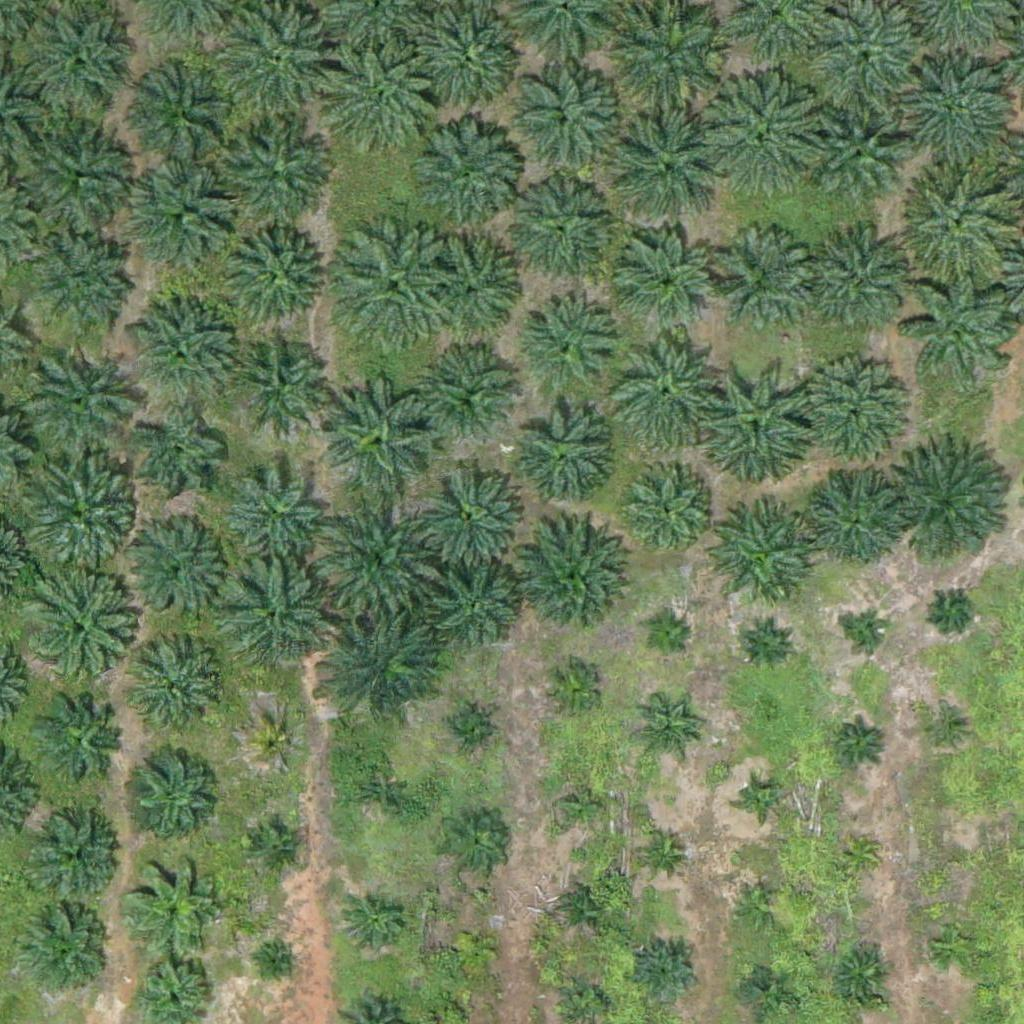Kelapa_Sawit: (17, 114, 142, 240), (321, 41, 446, 167), (400, 112, 525, 238), (502, 62, 627, 188), (607, 108, 732, 234), (803, 4, 928, 130), (890, 55, 1015, 181), (696, 362, 821, 488), (604, 328, 729, 454), (329, 223, 454, 349), (314, 493, 439, 619), (322, 604, 447, 730), (703, 75, 828, 200), (892, 443, 1017, 568), (15, 451, 140, 576), (15, 570, 140, 695), (513, 524, 626, 638), (22, 7, 135, 120), (904, 270, 1017, 383), (793, 356, 906, 469), (222, 562, 335, 675), (127, 297, 240, 410), (24, 228, 137, 341), (21, 346, 134, 459), (414, 454, 526, 568), (324, 374, 436, 488), (129, 57, 241, 170), (218, 123, 330, 236), (905, 165, 1017, 278), (702, 506, 814, 619), (803, 467, 903, 568), (809, 232, 909, 333), (708, 231, 808, 332), (618, 234, 718, 335), (617, 461, 717, 562), (506, 181, 606, 282), (518, 297, 618, 398), (420, 230, 520, 331), (226, 463, 326, 564), (130, 409, 230, 510), (125, 518, 225, 619), (123, 853, 223, 954), (510, 406, 610, 506), (423, 345, 523, 445), (223, 225, 323, 325), (232, 333, 332, 433), (135, 169, 235, 269), (136, 647, 224, 736), (432, 565, 520, 653), (21, 903, 109, 991), (33, 811, 121, 899), (40, 698, 128, 786), (813, 114, 900, 203), (130, 743, 217, 831), (634, 704, 697, 767), (540, 658, 603, 721), (636, 940, 699, 1003), (551, 775, 614, 838), (444, 813, 506, 876), (344, 892, 406, 955), (831, 944, 893, 1007), (348, 762, 410, 825), (741, 961, 791, 1012), (561, 883, 611, 934), (637, 826, 687, 877), (441, 704, 491, 755), (450, 923, 500, 974), (251, 821, 301, 871), (741, 619, 791, 669), (835, 717, 885, 767), (931, 921, 981, 971), (734, 881, 784, 931), (642, 614, 692, 664), (252, 721, 302, 771), (932, 589, 970, 627), (840, 835, 878, 873), (743, 780, 781, 818), (849, 615, 886, 653), (926, 713, 963, 751), (938, 842, 975, 880), (266, 949, 291, 974)
